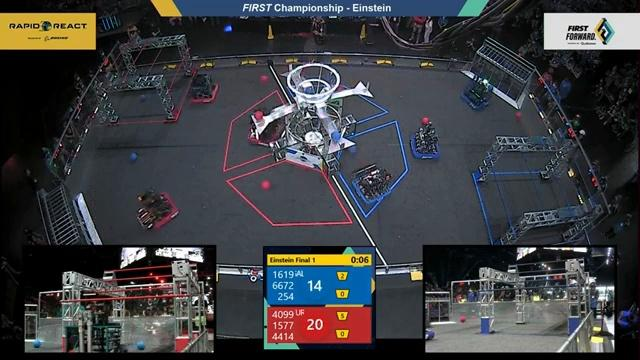robot: (131, 189, 179, 232), (350, 164, 392, 205), (460, 77, 493, 113), (247, 114, 284, 146), (409, 124, 440, 161), (188, 72, 219, 105), (425, 326, 436, 342)
